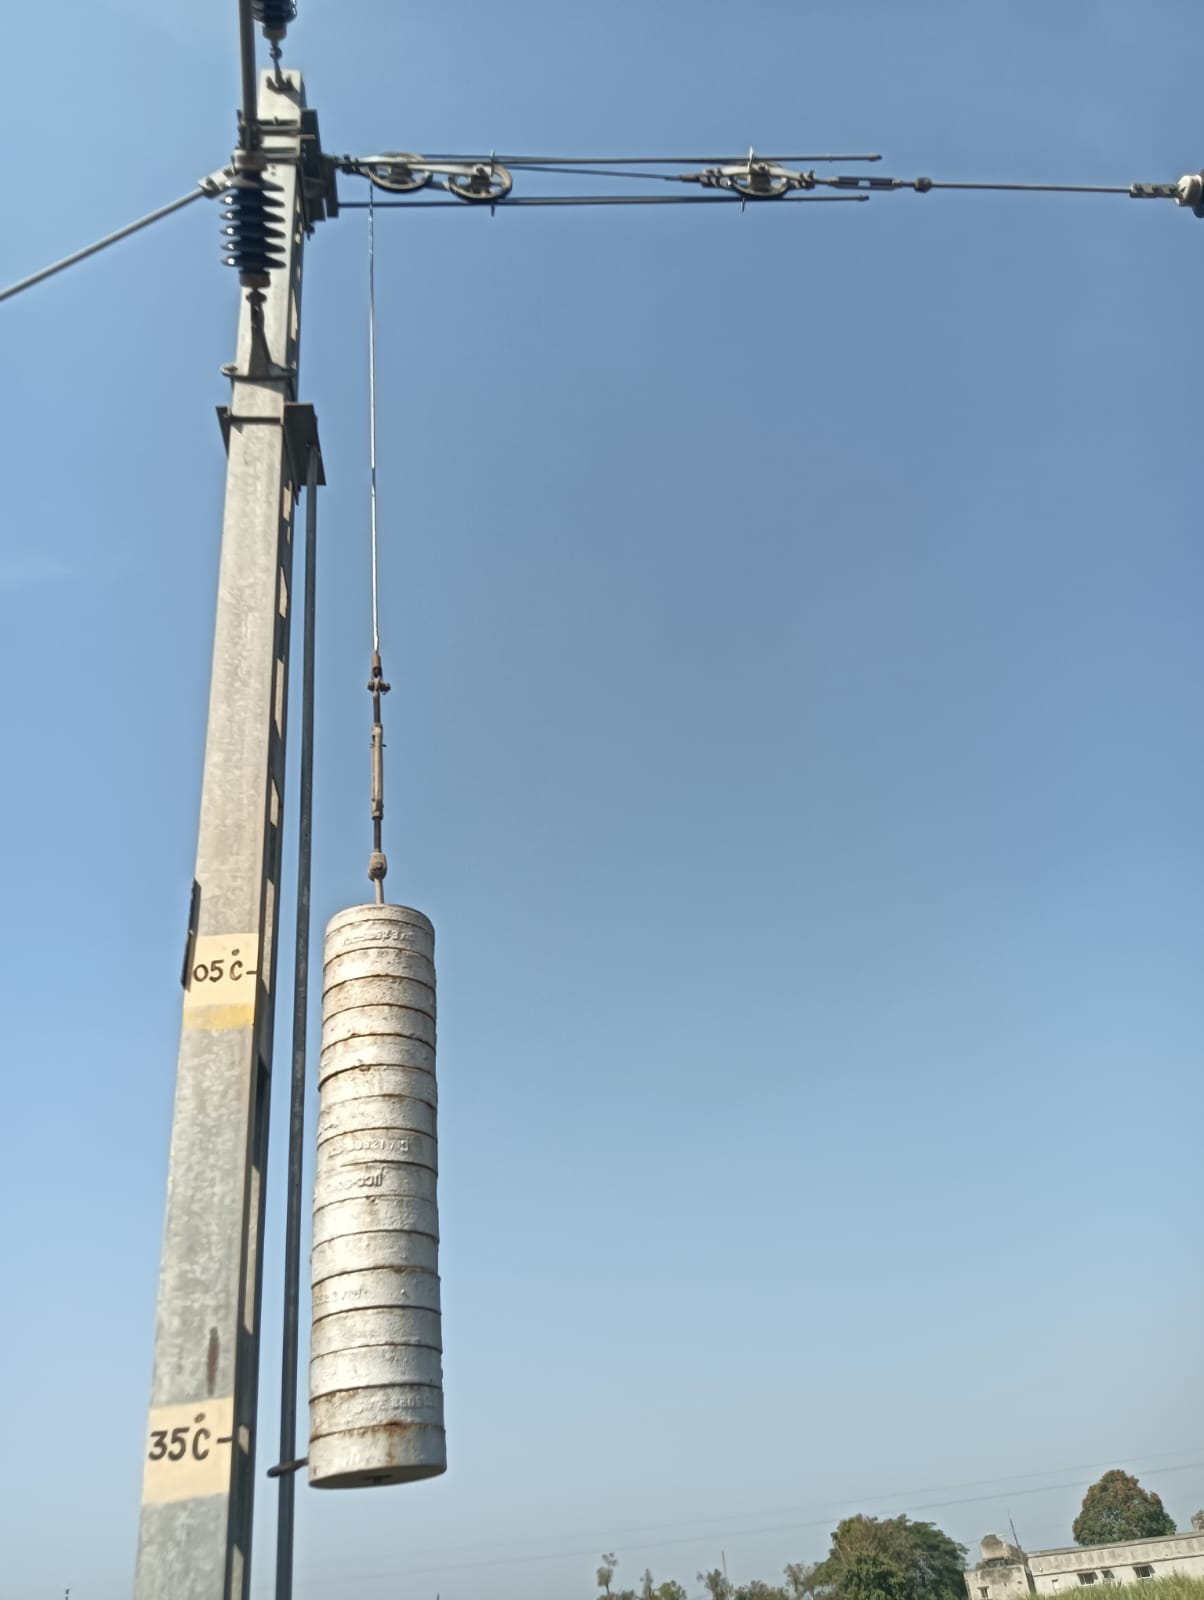Pulley: (723, 135, 809, 206), (450, 140, 520, 215), (367, 126, 439, 191)
objectA: (209, 25, 324, 1412), (315, 892, 488, 1485), (220, 142, 293, 311), (238, 0, 300, 53)
